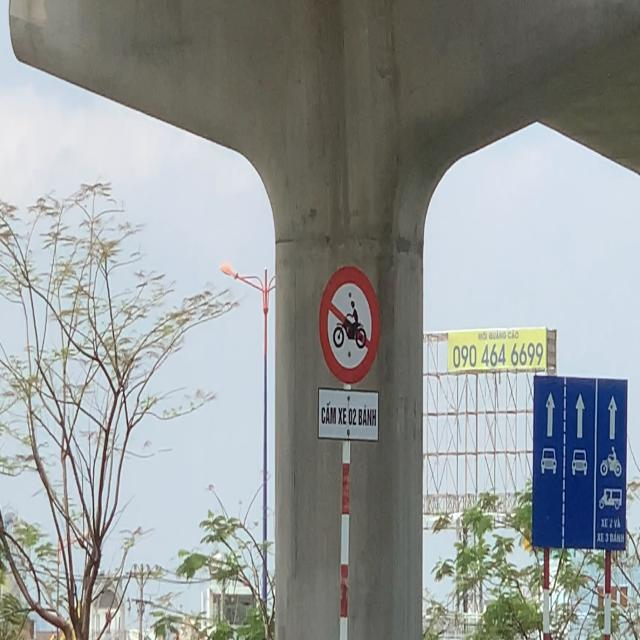Cam con lai: (316, 261, 382, 386)
